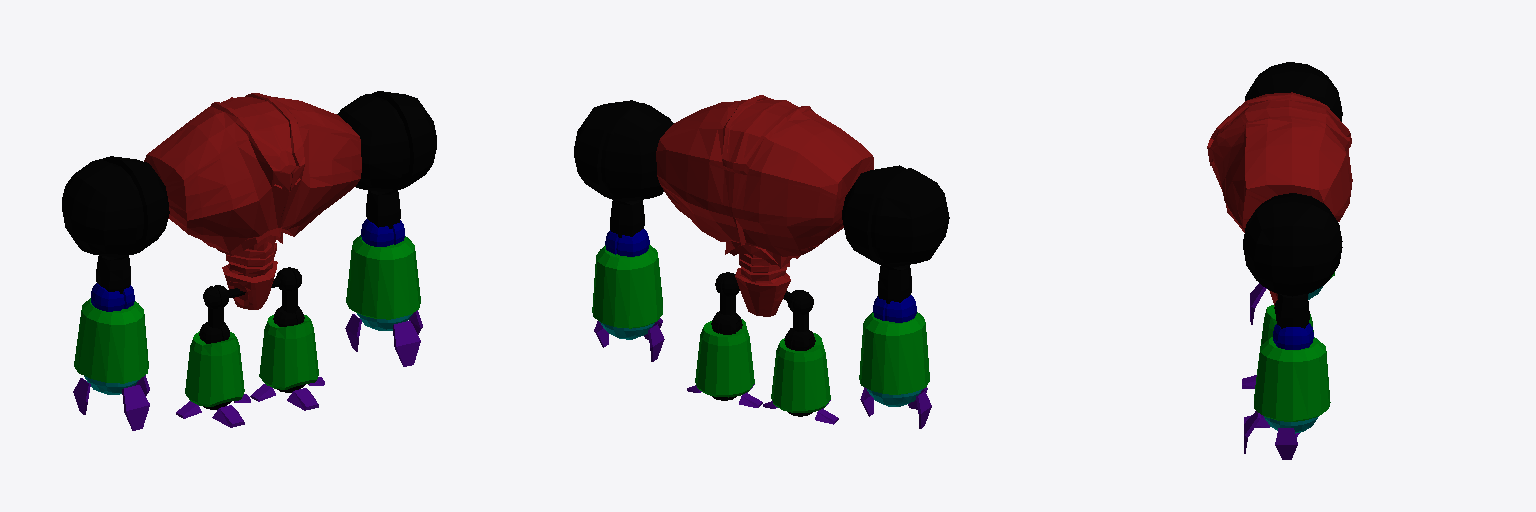
The model's file is RobotFinal.obj.
The picture shows the model from 3 angles: view 1: azimuth 30°, elevation 25°; view 2: azimuth 150°, elevation 25°; view 3: azimuth 270°, elevation 25°; orthographic projection.
Visible parts, largest first — view 1: g polySurface7 pCube28_polySurface7 pCube28, g pCube28 polySurface8_pCube28 polySurface8, g pCube28 polySurface19_pCube28 polySurface19, g pCube28 polySurface17_pCube28 polySurface17, g pCube28 polySurface25_pCube28 polySurface25, g pCube28 polySurface26_pCube28 polySurface26, g pCube28 polySurface29_pCube28 polySurface29, g pCube28 polySurface3_pCube28 polySurface3, g pCube28 polySurface24_pCube28 polySurface24, g pCube28 polySurface9_pCube28 polySurface9, g pCube28 polySurface18_pCube28 polySurface18, g pCube28 polySurface20_pCube28 polySurface20 (+1 smaller); view 2: g polySurface7 pCube28_polySurface7 pCube28, g pCube28 polySurface8_pCube28 polySurface8, g pCube28 polySurface19_pCube28 polySurface19, g pCube28 polySurface17_pCube28 polySurface17, g pCube28 polySurface25_pCube28 polySurface25, g pCube28 polySurface26_pCube28 polySurface26, g pCube28 polySurface29_pCube28 polySurface29, g pCube28 polySurface18_pCube28 polySurface18, g pCube28 polySurface9_pCube28 polySurface9, g pCube28 polySurface20_pCube28 polySurface20, g pCube28 polySurface12_pCube28 polySurface12, g pCube28 polySurface27_pCube28 polySurface27; view 3: g polySurface7 pCube28_polySurface7 pCube28, g pCube28 polySurface19_pCube28 polySurface19, g pCube28 polySurface17_pCube28 polySurface17, g pCube28 polySurface8_pCube28 polySurface8, g pCube28 polySurface18_pCube28 polySurface18, g pCube28 polySurface2_pCube28 polySurface2.
Boxes of the visible parts, box(x1,y1,x2,y2) form: g polySurface7 pCube28_polySurface7 pCube28: box(144, 93, 361, 309); g pCube28 polySurface8_pCube28 polySurface8: box(62, 156, 169, 293); g pCube28 polySurface19_pCube28 polySurface19: box(337, 91, 436, 228); g pCube28 polySurface17_pCube28 polySurface17: box(346, 235, 420, 319); g pCube28 polySurface25_pCube28 polySurface25: box(74, 298, 148, 383); g pCube28 polySurface26_pCube28 polySurface26: box(185, 331, 244, 406); g pCube28 polySurface29_pCube28 polySurface29: box(259, 315, 318, 389); g pCube28 polySurface3_pCube28 polySurface3: box(393, 321, 420, 366); g pCube28 polySurface24_pCube28 polySurface24: box(122, 385, 149, 430); g pCube28 polySurface9_pCube28 polySurface9: box(91, 283, 134, 311); g pCube28 polySurface18_pCube28 polySurface18: box(361, 219, 404, 246); g pCube28 polySurface20_pCube28 polySurface20: box(203, 285, 245, 308); g polySurface7 pCube28_polySurface7 pCube28: box(656, 95, 873, 316); g pCube28 polySurface8_pCube28 polySurface8: box(842, 165, 949, 303); g pCube28 polySurface19_pCube28 polySurface19: box(574, 100, 673, 237); g pCube28 polySurface17_pCube28 polySurface17: box(592, 245, 662, 328); g pCube28 polySurface25_pCube28 polySurface25: box(859, 312, 929, 394); g pCube28 polySurface26_pCube28 polySurface26: box(771, 333, 830, 412); g pCube28 polySurface29_pCube28 polySurface29: box(695, 319, 754, 397); g pCube28 polySurface18_pCube28 polySurface18: box(605, 229, 649, 256); g pCube28 polySurface9_pCube28 polySurface9: box(873, 295, 916, 322); g pCube28 polySurface20_pCube28 polySurface20: box(783, 290, 813, 314); g pCube28 polySurface12_pCube28 polySurface12: box(711, 311, 742, 334); g pCube28 polySurface27_pCube28 polySurface27: box(784, 328, 815, 350); g polySurface7 pCube28_polySurface7 pCube28: box(1207, 92, 1352, 305); g pCube28 polySurface19_pCube28 polySurface19: box(1243, 193, 1342, 328); g pCube28 polySurface17_pCube28 polySurface17: box(1254, 337, 1330, 421); g pCube28 polySurface8_pCube28 polySurface8: box(1245, 62, 1342, 121); g pCube28 polySurface18_pCube28 polySurface18: box(1273, 323, 1313, 349); g pCube28 polySurface2_pCube28 polySurface2: box(1275, 428, 1297, 459).
Bounding box in the file's own units: 9.63 × 7.62 × 3.37.